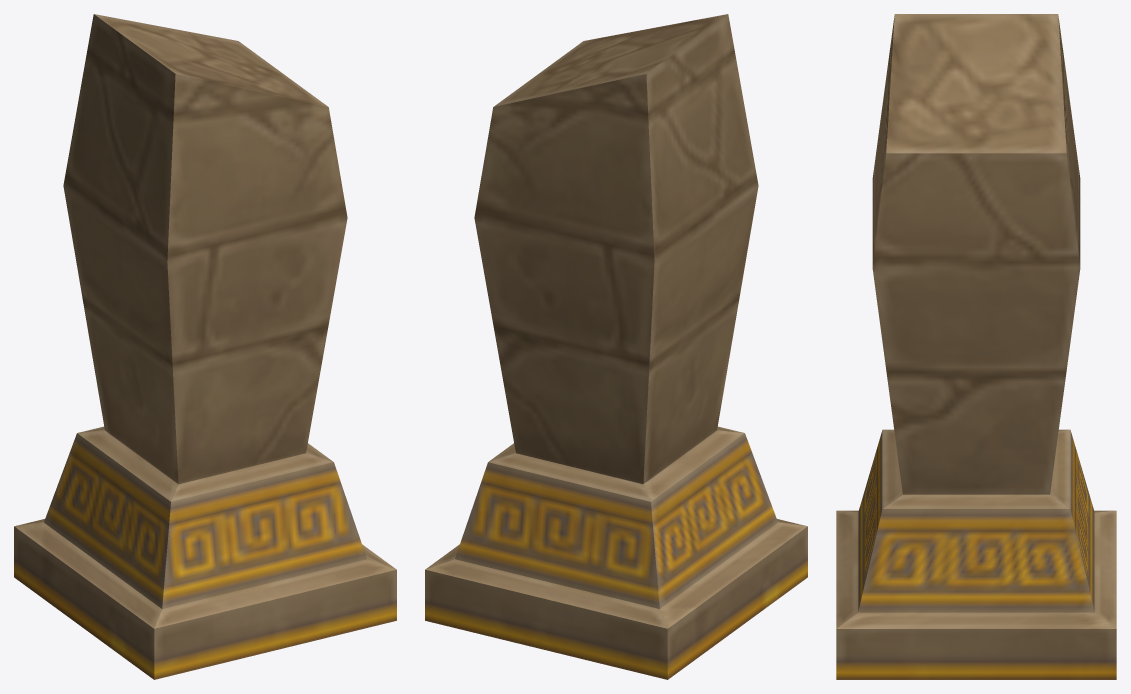
Rendered from desert_dungeon_prop_3_2.FBX.
3 renders of one model, left to right at view 1: azimuth 30°, elevation 25°; view 2: azimuth 150°, elevation 25°; view 3: azimuth 270°, elevation 25°, orthographic.
Visible parts, largest first — view 1: Object020; view 2: Object020; view 3: Object020.
Part boxes in pixels (bbox=[...]): Object020: bbox=[14, 14, 396, 679]; Object020: bbox=[425, 14, 807, 679]; Object020: bbox=[836, 14, 1116, 679].
Bounding box in the file's own units: 22.37 × 22.37 × 50.43.
